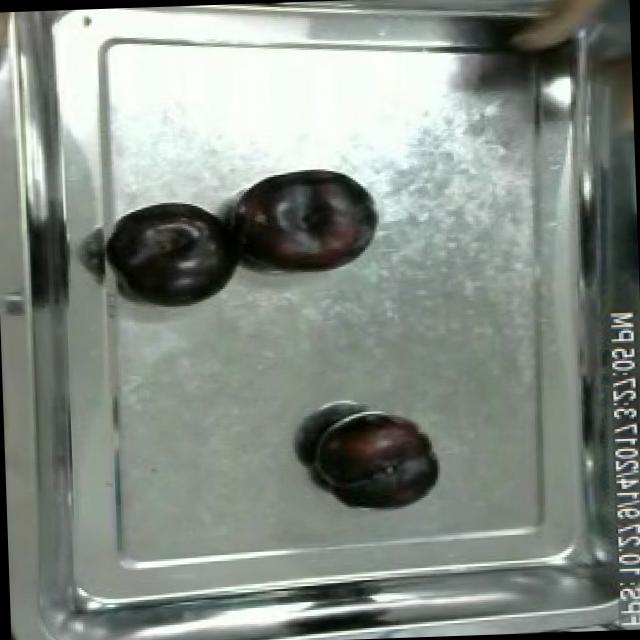Fruit: (223, 163, 388, 280), (105, 198, 248, 312), (308, 408, 444, 514), (0, 10, 21, 73)
